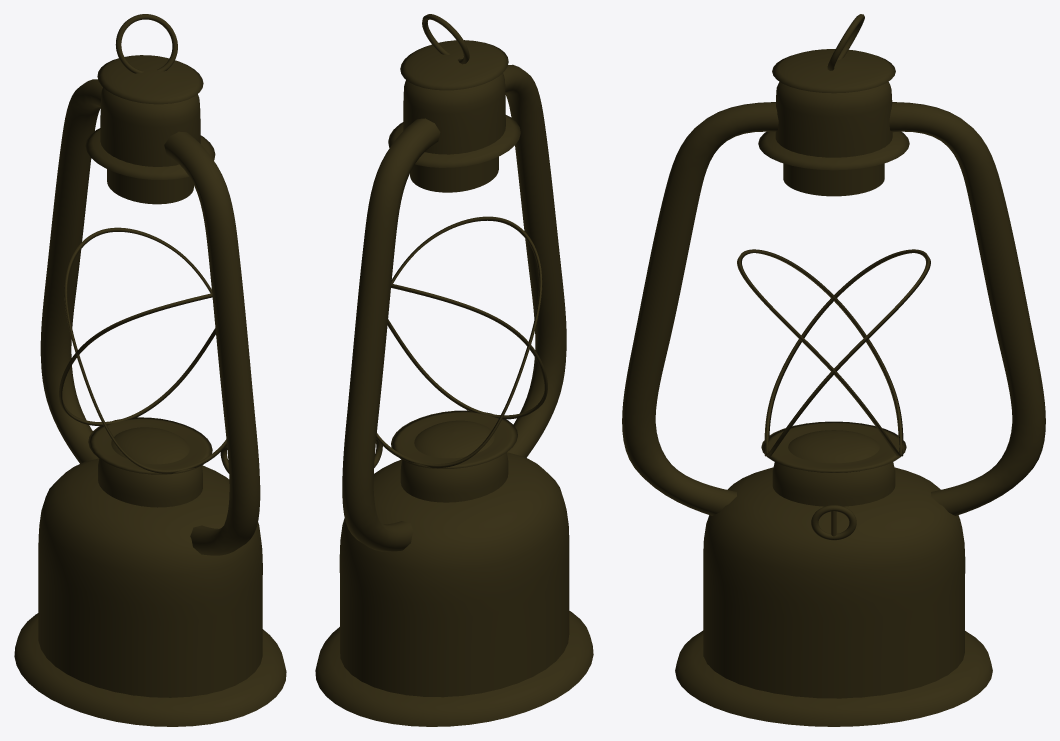
Rendered from lamb.obj.
The picture shows the model from 3 angles, left to right: view 1: azimuth 30°, elevation 25°; view 2: azimuth 150°, elevation 25°; view 3: azimuth 270°, elevation 25°; orthographic projection. The views are drawn at different scales.
Parts seen in each view (by area): view 1: group62 _Lamb:nurbsToPoly9, group62 _Lamb:nurbsToPoly6, group62 _Lamb:nurbsToPoly5, group62 _Lamb:nurbsToPoly13, group62 _Lamb:nurbsToPoly10, group62 _Lamb:nurbsToPoly15, group62 _Lamb:nurbsToPoly17, group62 _Lamb:nurbsToPoly12, group62 _Lamb:nurbsToPoly8, group62 _Lamb:nurbsToPoly14, group62 _Lamb:nurbsToPoly16, group62 _Lamb:nurbsToPoly7 (+1 smaller); view 2: group62 _Lamb:nurbsToPoly9, group62 _Lamb:nurbsToPoly5, group62 _Lamb:nurbsToPoly6, group62 _Lamb:nurbsToPoly13, group62 _Lamb:nurbsToPoly10, group62 _Lamb:nurbsToPoly15, group62 _Lamb:nurbsToPoly17, group62 _Lamb:nurbsToPoly12, group62 _Lamb:nurbsToPoly7, group62 _Lamb:nurbsToPoly14, group62 _Lamb:nurbsToPoly16, group62 _Lamb:nurbsToPoly8 (+1 smaller); view 3: group62 _Lamb:nurbsToPoly9, group62 _Lamb:nurbsToPoly6, group62 _Lamb:nurbsToPoly5, group62 _Lamb:nurbsToPoly13, group62 _Lamb:nurbsToPoly15, group62 _Lamb:nurbsToPoly10, group62 _Lamb:nurbsToPoly17, group62 _Lamb:nurbsToPoly12, group62 _Lamb:nurbsToPoly7, group62 _Lamb:nurbsToPoly8, group62 _Lamb:nurbsToPoly14, group62 _Lamb:nurbsToPoly16 (+2 smaller).
Part boxes in pixels (x1,y1,x2,y2): group62 _Lamb:nurbsToPoly9: [38, 458, 262, 697]; group62 _Lamb:nurbsToPoly6: [164, 131, 260, 555]; group62 _Lamb:nurbsToPoly5: [40, 79, 102, 463]; group62 _Lamb:nurbsToPoly13: [14, 613, 286, 726]; group62 _Lamb:nurbsToPoly10: [98, 427, 202, 507]; group62 _Lamb:nurbsToPoly15: [100, 87, 200, 166]; group62 _Lamb:nurbsToPoly17: [97, 55, 203, 104]; group62 _Lamb:nurbsToPoly12: [88, 417, 212, 474]; group62 _Lamb:nurbsToPoly8: [64, 227, 226, 473]; group62 _Lamb:nurbsToPoly14: [107, 169, 193, 204]; group62 _Lamb:nurbsToPoly16: [85, 128, 215, 179]; group62 _Lamb:nurbsToPoly7: [59, 293, 215, 426]; group62 _Lamb:nurbsToPoly9: [339, 452, 569, 697]; group62 _Lamb:nurbsToPoly5: [342, 118, 440, 551]; group62 _Lamb:nurbsToPoly6: [503, 64, 566, 457]; group62 _Lamb:nurbsToPoly13: [315, 611, 593, 726]; group62 _Lamb:nurbsToPoly10: [400, 420, 508, 502]; group62 _Lamb:nurbsToPoly15: [403, 73, 505, 154]; group62 _Lamb:nurbsToPoly17: [400, 40, 508, 90]; group62 _Lamb:nurbsToPoly12: [391, 410, 517, 468]; group62 _Lamb:nurbsToPoly7: [376, 216, 542, 467]; group62 _Lamb:nurbsToPoly14: [410, 156, 498, 192]; group62 _Lamb:nurbsToPoly16: [388, 115, 520, 167]; group62 _Lamb:nurbsToPoly8: [387, 283, 547, 419]; group62 _Lamb:nurbsToPoly9: [703, 467, 965, 698]; group62 _Lamb:nurbsToPoly6: [622, 102, 778, 515]; group62 _Lamb:nurbsToPoly5: [889, 102, 1045, 515]; group62 _Lamb:nurbsToPoly13: [675, 630, 992, 726]; group62 _Lamb:nurbsToPoly15: [775, 81, 892, 157]; group62 _Lamb:nurbsToPoly10: [772, 430, 895, 506]; group62 _Lamb:nurbsToPoly17: [772, 49, 895, 93]; group62 _Lamb:nurbsToPoly12: [761, 421, 906, 472]; group62 _Lamb:nurbsToPoly7: [737, 249, 903, 456]; group62 _Lamb:nurbsToPoly8: [764, 249, 930, 456]; group62 _Lamb:nurbsToPoly14: [783, 163, 884, 196]; group62 _Lamb:nurbsToPoly16: [758, 131, 909, 170].
Size of the model in its own units: 9.2 by 25.08 by 14.68.
